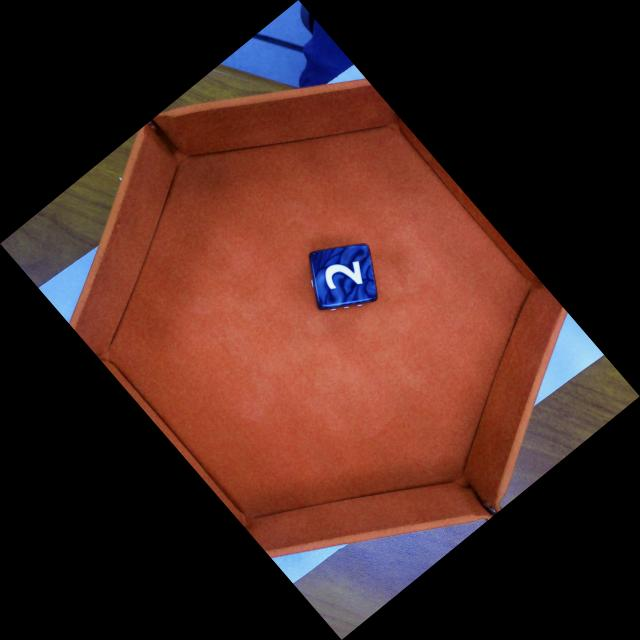dice: (307, 241, 381, 313)
